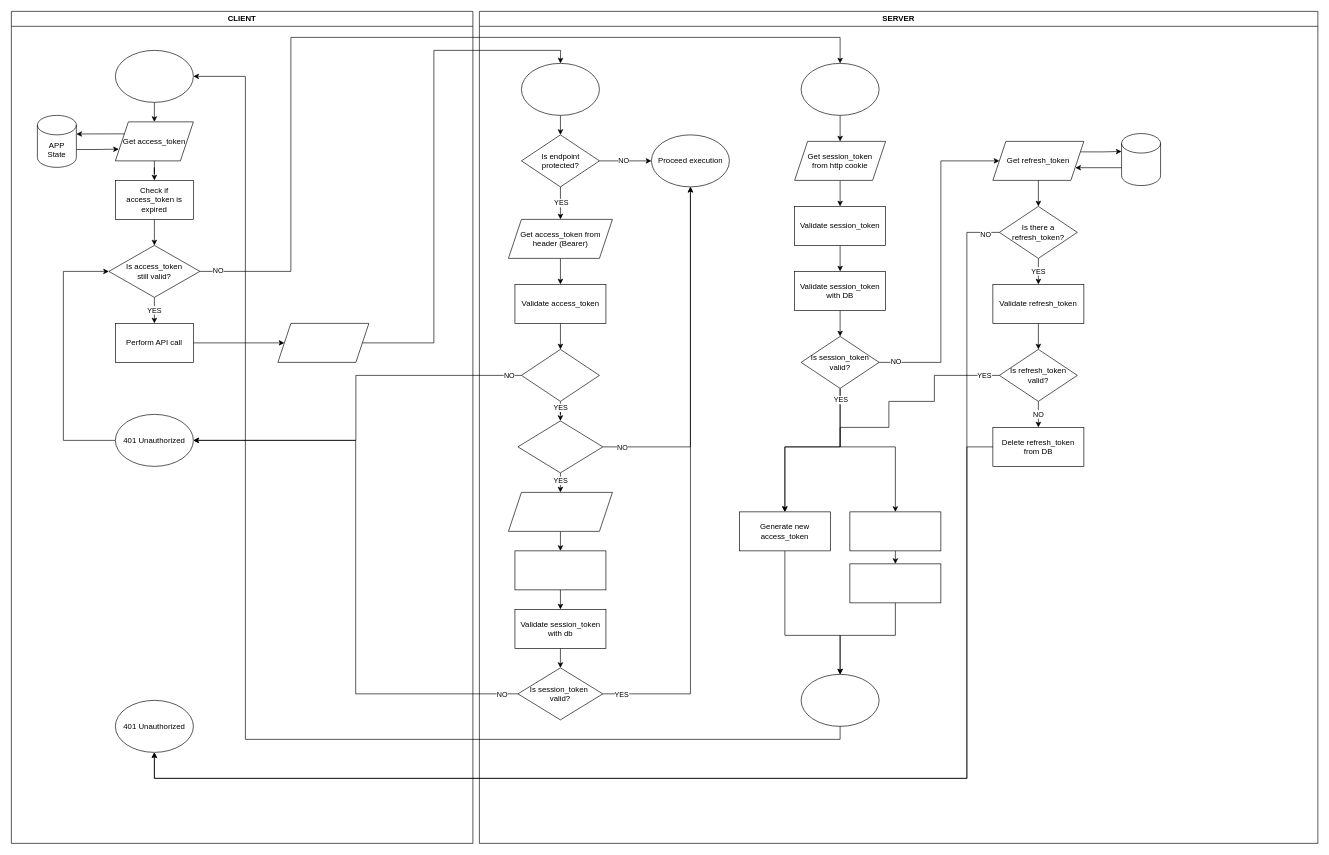
This 1329x855 diagram has some shape labels left out. Each missing label, with the box of its shape:
Call to /refresh: (800, 63, 879, 115)
Call to endpoint: (521, 63, 599, 115)
DB: (1121, 133, 1161, 186)
Generate new session_token: (849, 511, 941, 551)
Get session_token from cookie: (508, 492, 612, 531)
Is access_ token valid?: (521, 349, 599, 401)
Is request strict?: (517, 420, 603, 473)
Save new session_token in cookie: (849, 563, 941, 603)
Send access token in header as Bearer: (277, 323, 369, 362)
Send to client: (800, 674, 879, 726)
User makes call to API: (115, 50, 193, 102)
Validate session_ token: (514, 550, 606, 590)
